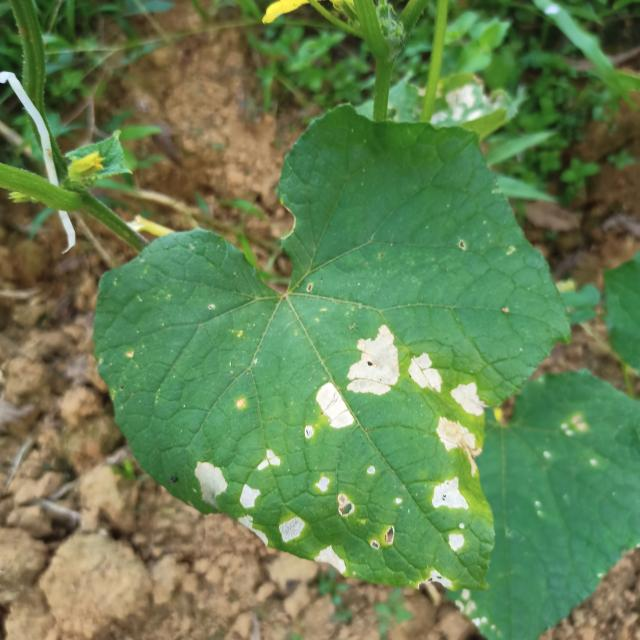disease_cucumber: (314, 322, 398, 431), (196, 448, 280, 510), (436, 382, 484, 449), (431, 477, 467, 557), (243, 513, 309, 542), (316, 476, 358, 516), (407, 351, 442, 395), (317, 544, 351, 572)
